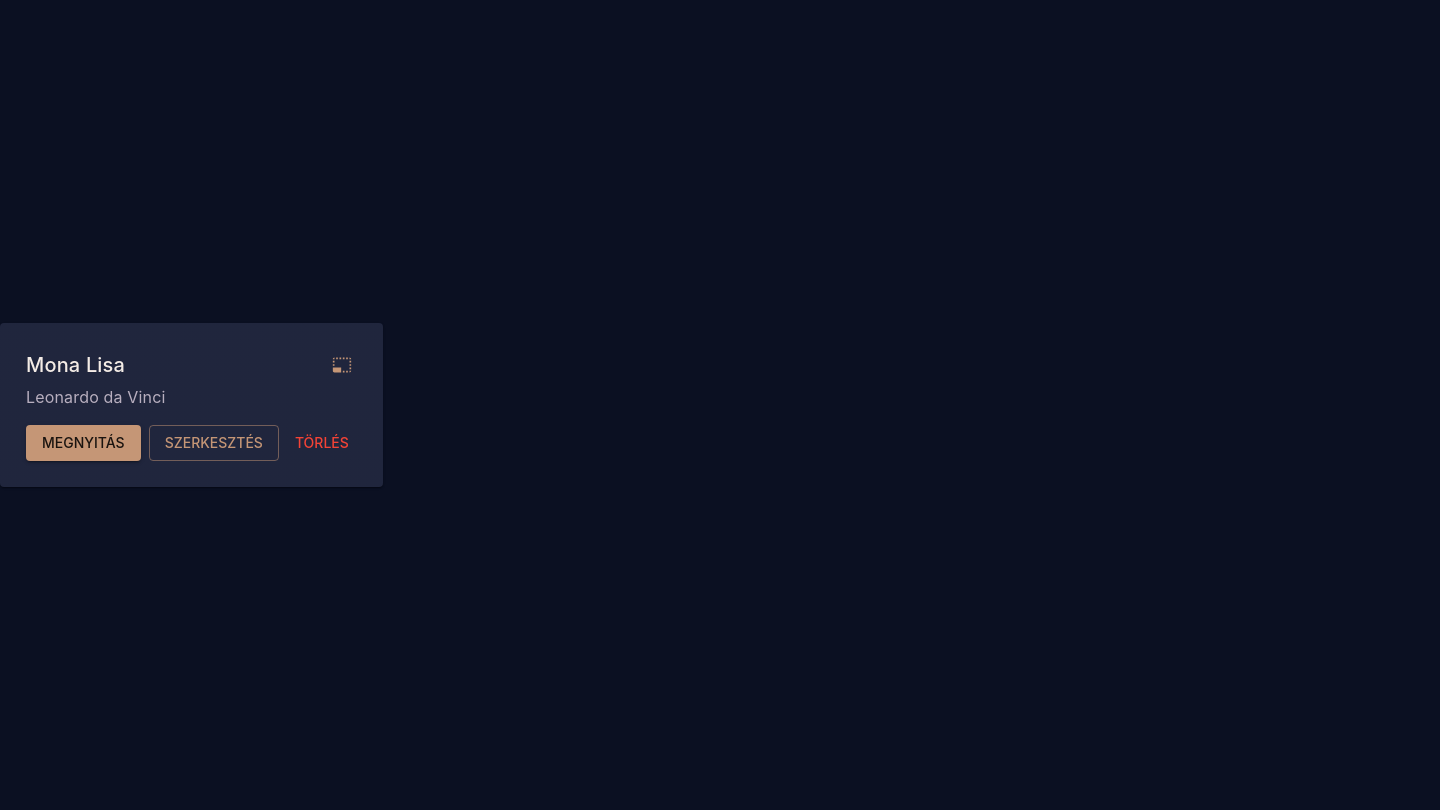
Test case: AdminTopicItemCard UI › deletes an item through the confirmation dialog and updates the live query cache
What coordinates should you click on to do the following:
click the button "Törlés"
I would click on:
 (322, 443)
Its box is [287,425,357,461].
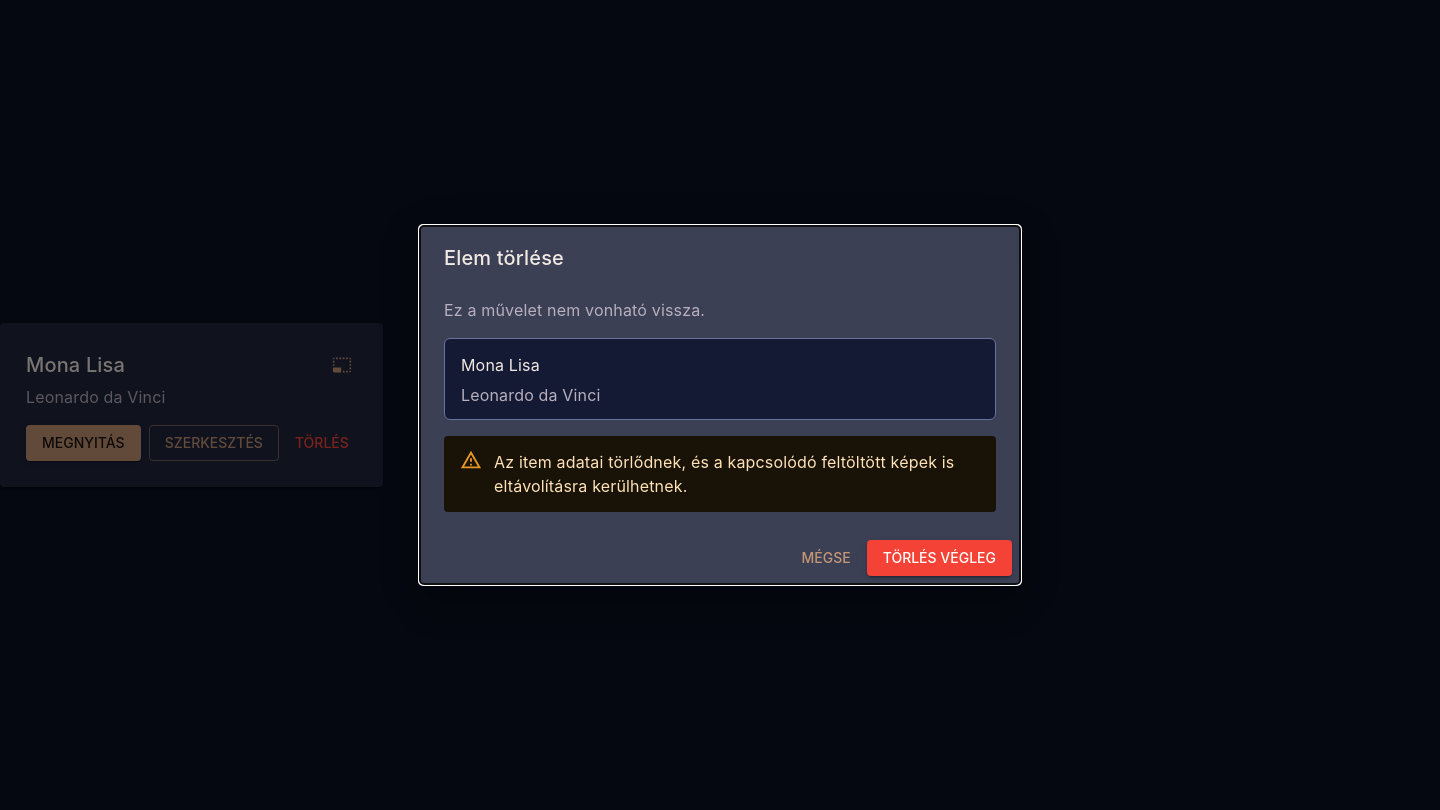
Expected: the heading "Elem törlése" is shown, [444,246,564,270]
Expected: the heading "Mona Lisa" is shown, [461,355,540,375]
Expected: the text "Leonardo da Vinci" is shown, [461,385,601,405]
What coordinates should you click on to do the following:
click the button "Törlés végleg"
I would click on:
 (939, 558)
Its box is [867,540,1012,576].
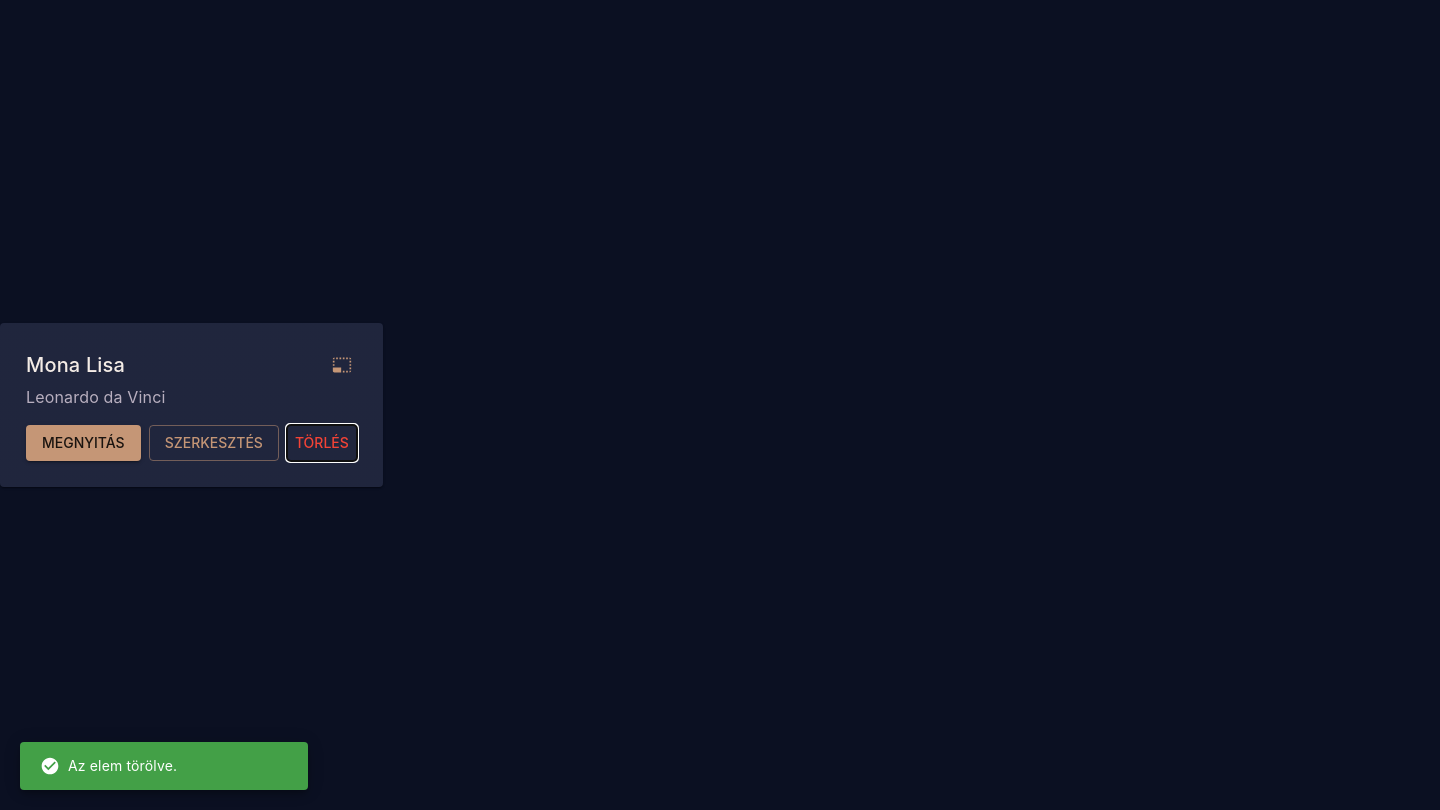
Expected: the text "Az elem törölve." is shown, [40,756,177,776]
